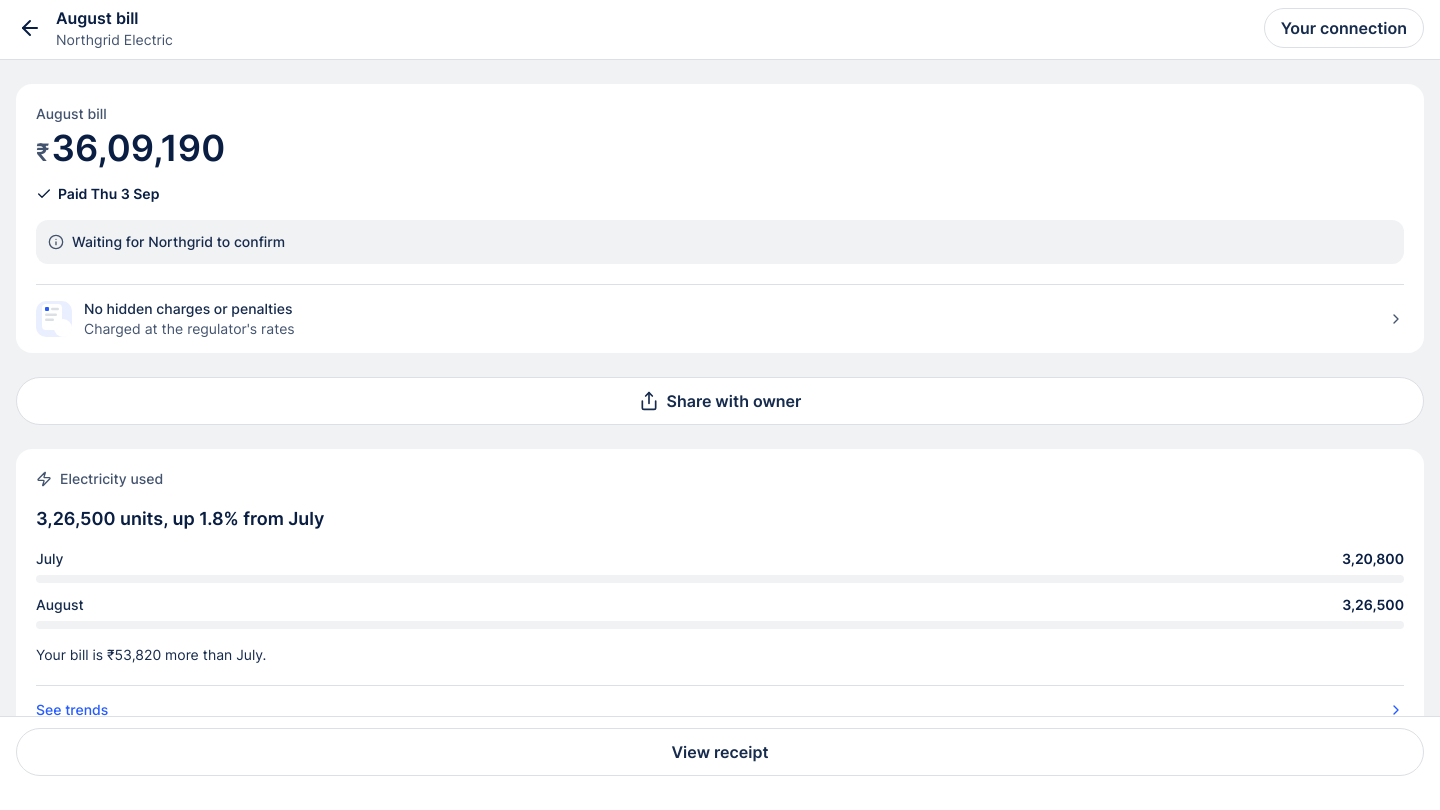
Scenario: S06 Bill summary, once the bill is paid › shows the paid card and a receipt button, never a second Pay button
Expected: the element showing "₹ 36,09,190" is shown, [36,126,225,170]
Expected: the text "Paid Thu 3 Sep" is shown, [58,184,159,204]
Click the button "View receipt" at (720, 752), box [16,728,1424,776]
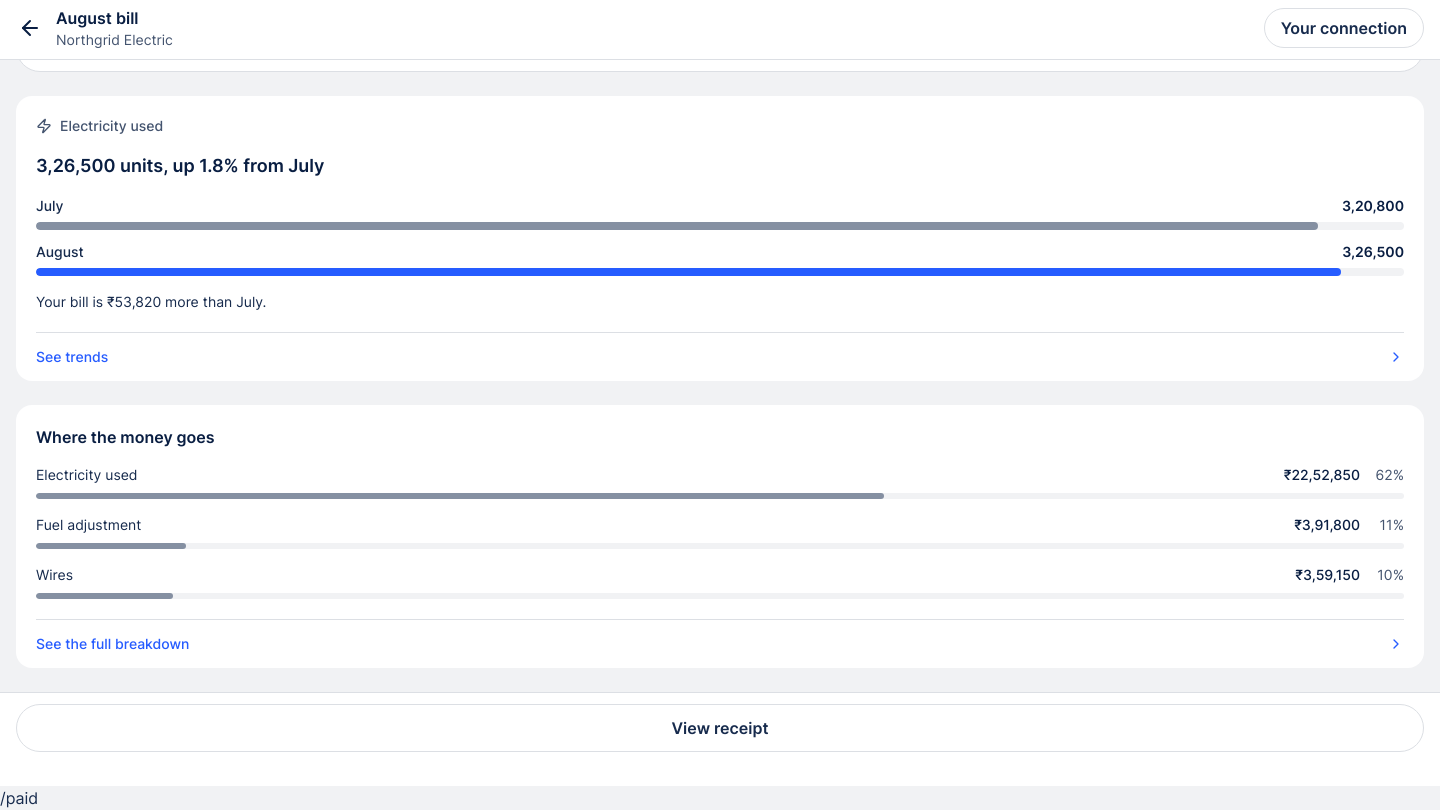
Now the text with test id "where" reads "/paid", box [0,788,38,808]
